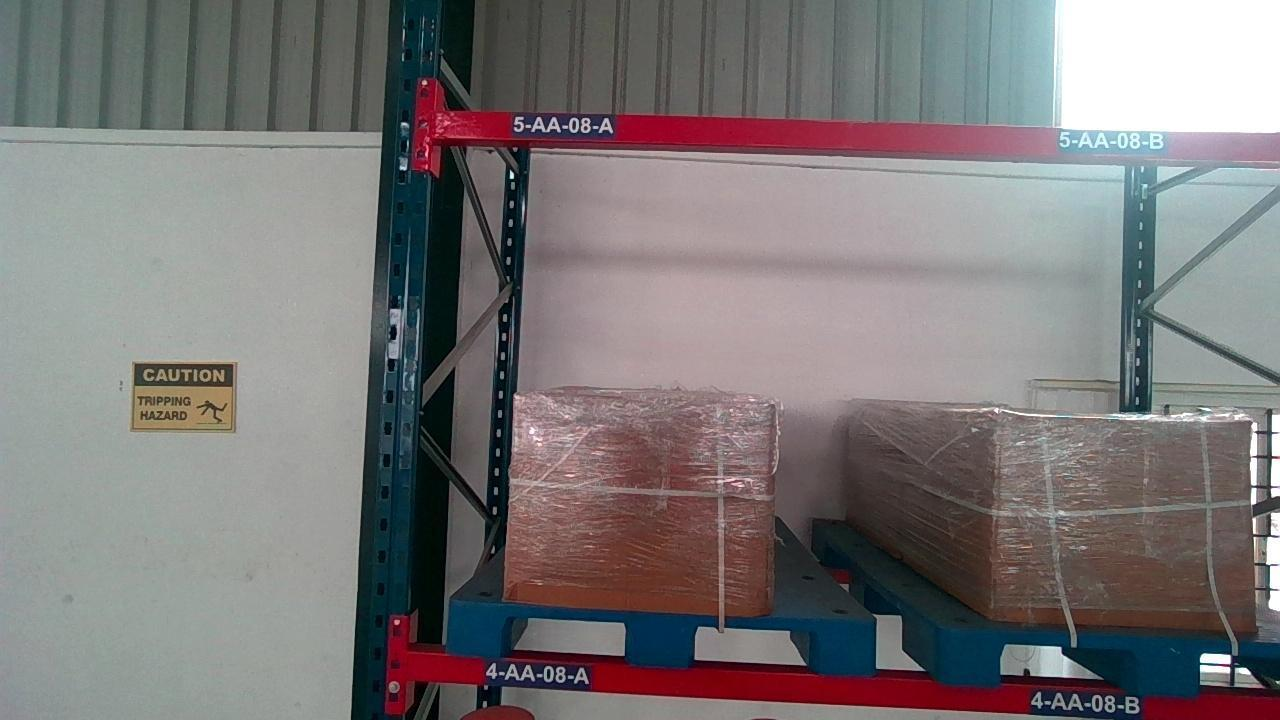h_rack: (401, 649, 1280, 720), (431, 111, 1280, 166)
small_pallet: (451, 608, 874, 666), (950, 632, 1278, 690)
